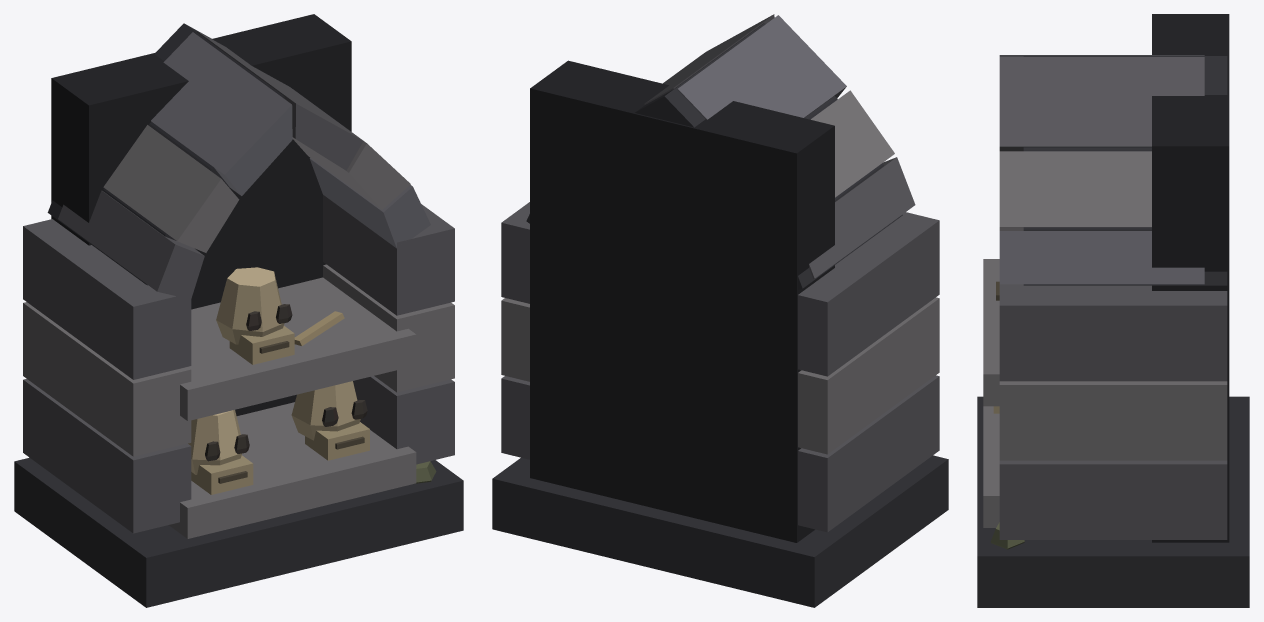
The model's file is ossuary-niche.glb.
3 renders of one model, left to right at view 1: azimuth 30°, elevation 25°; view 2: azimuth 150°, elevation 25°; view 3: azimuth 270°, elevation 25°, orthographic. The views are drawn at different scales.
Visible parts, largest first — view 1: Ossuary wall niche; view 2: Ossuary wall niche; view 3: Ossuary wall niche.
Part boxes in pixels (bbox=[...]): Ossuary wall niche: bbox=[14, 14, 463, 607]; Ossuary wall niche: bbox=[492, 14, 948, 607]; Ossuary wall niche: bbox=[977, 14, 1249, 607].
Bounding box in the file's own units: 0.942 × 1.28 × 0.67.
